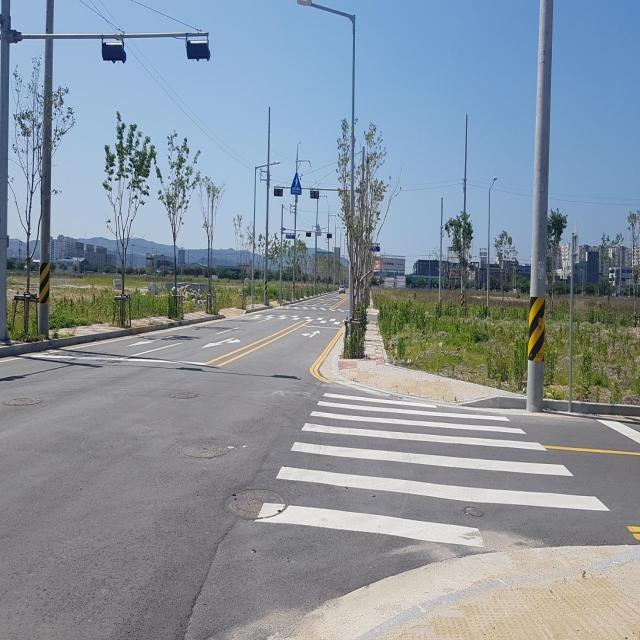횡단보도: (254, 391, 612, 554), (253, 310, 342, 328), (278, 298, 350, 314)
